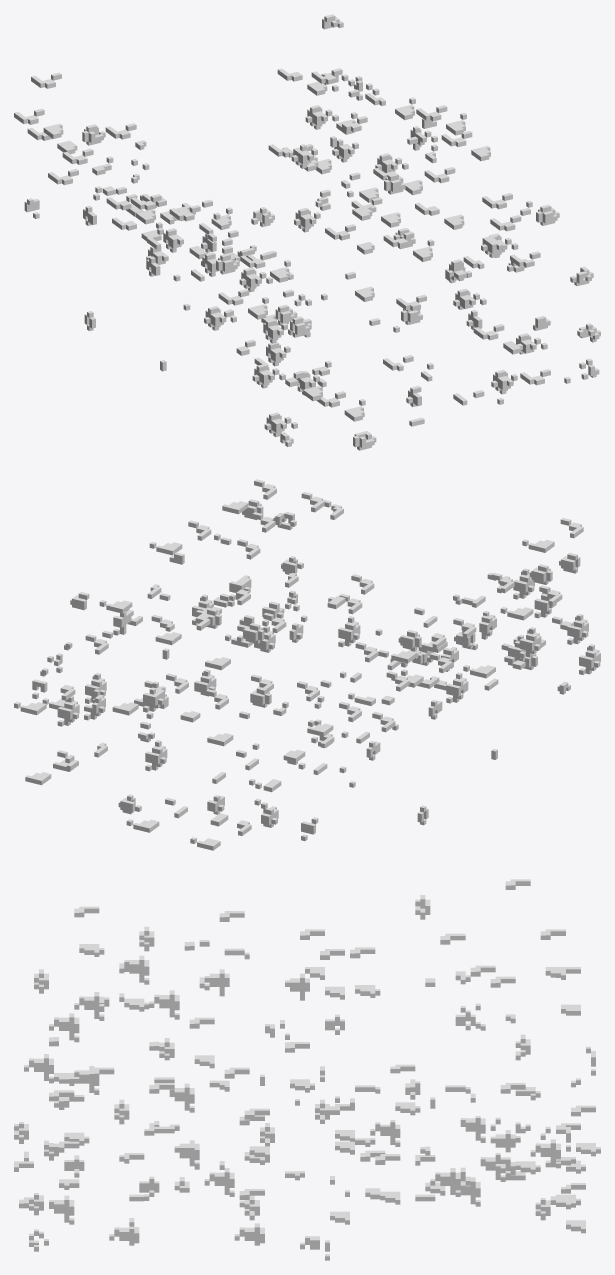
The model's file is smallcloud.fbx.
3 renders of one model, top to bottom at view 1: azimuth 30°, elevation 25°; view 2: azimuth 150°, elevation 25°; view 3: azimuth 270°, elevation 25°, orthographic. The views are drawn at different scales.
Parts seen in each view (by area): view 1: 对象; view 2: 对象; view 3: 对象.
Part boxes in pixels (<box>): 对象: <box>14,14,600,450</box>; 对象: <box>14,479,600,850</box>; 对象: <box>14,879,600,1260</box>.
Bounding box in the file's own units: 78 × 49 × 117.
1 material, 1 textured.
